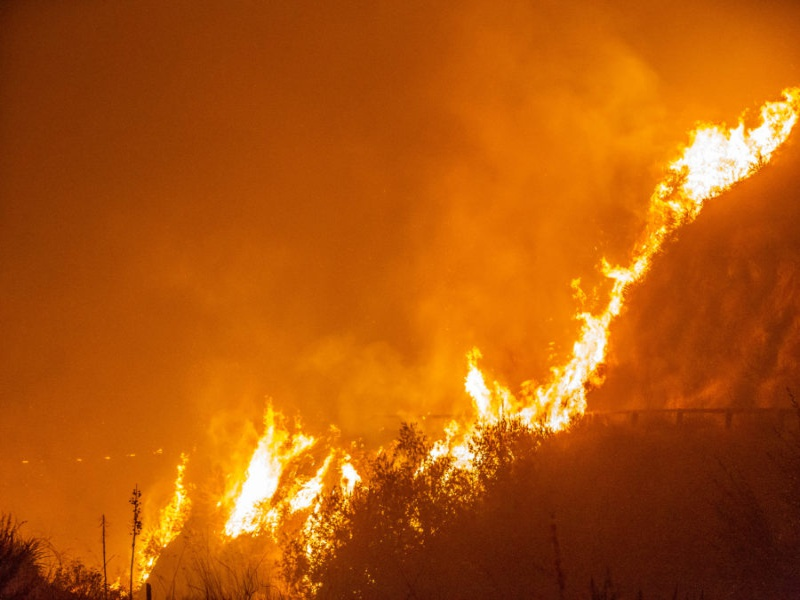fire: (203, 399, 312, 539), (116, 440, 209, 591), (651, 95, 767, 209), (429, 351, 533, 465), (537, 305, 620, 432), (595, 209, 670, 291), (290, 442, 366, 522), (769, 95, 800, 143)
